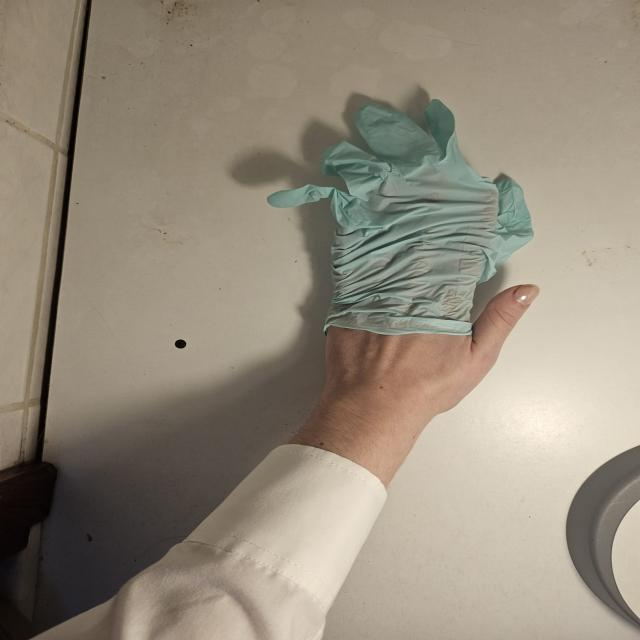glove_partial: (267, 97, 542, 411)
